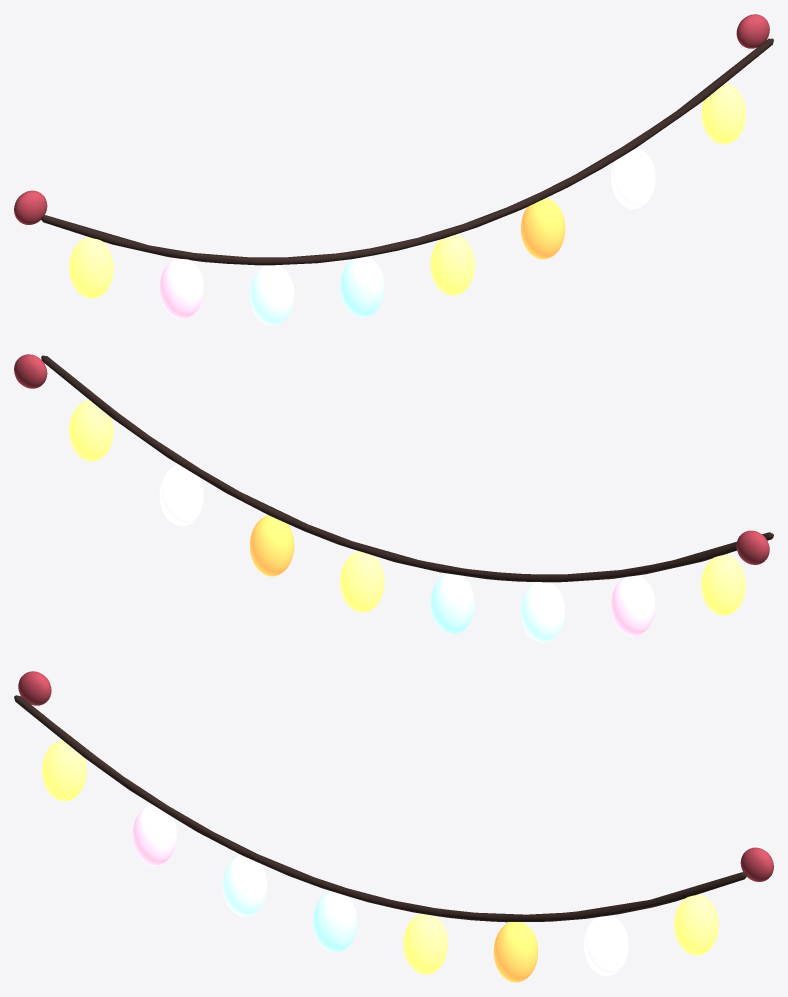
File: deco_guirnalda.glb
3 views of the same model, one above another, from view 1: azimuth 30°, elevation 25°; view 2: azimuth 150°, elevation 25°; view 3: azimuth 330°, elevation 25° (orthographic).
Parts seen in each view (by area): view 1: cable guirnalda.001, bombillo 0.001, bombillo 1.001, bombillo 2.001, bombillo 3.001, bombillo 4.001, bombillo 5.001, bombillo 6.001, bombillo 7.001, chinche -1.001, chinche 1.001; view 2: cable guirnalda.001, bombillo 0.001, bombillo 3.001, bombillo 1.001, bombillo 2.001, bombillo 4.001, bombillo 5.001, bombillo 6.001, bombillo 7.001, chinche -1.001, chinche 1.001; view 3: cable guirnalda.001, bombillo 7.001, bombillo 4.001, bombillo 5.001, bombillo 6.001, bombillo 3.001, bombillo 2.001, bombillo 1.001, bombillo 0.001, chinche 1.001, chinche -1.001.
Boxes of the visible parts, bbox=[...] form: cable guirnalda.001: bbox=[41, 38, 773, 265]; bombillo 0.001: bbox=[69, 237, 113, 298]; bombillo 1.001: bbox=[159, 258, 203, 319]; bombillo 2.001: bbox=[250, 265, 294, 325]; bombillo 3.001: bbox=[340, 256, 384, 317]; bombillo 4.001: bbox=[430, 234, 474, 295]; bombillo 5.001: bbox=[521, 198, 565, 259]; bombillo 6.001: bbox=[611, 147, 655, 208]; bombillo 7.001: bbox=[701, 83, 745, 144]; chinche -1.001: bbox=[14, 190, 47, 224]; chinche 1.001: bbox=[736, 14, 769, 48]; cable guirnalda.001: bbox=[41, 355, 773, 582]; bombillo 0.001: bbox=[701, 554, 745, 615]; bombillo 3.001: bbox=[430, 573, 474, 634]; bombillo 1.001: bbox=[611, 575, 655, 636]; bombillo 2.001: bbox=[520, 582, 565, 642]; bombillo 4.001: bbox=[340, 551, 384, 612]; bombillo 5.001: bbox=[250, 515, 294, 576]; bombillo 6.001: bbox=[159, 465, 203, 526]; bombillo 7.001: bbox=[69, 400, 113, 461]; chinche -1.001: bbox=[736, 530, 769, 564]; chinche 1.001: bbox=[14, 354, 47, 388]; cable guirnalda.001: bbox=[14, 695, 746, 922]; bombillo 7.001: bbox=[674, 894, 718, 955]; bombillo 4.001: bbox=[403, 913, 447, 974]; bombillo 5.001: bbox=[493, 922, 537, 982]; bombillo 6.001: bbox=[584, 915, 628, 976]; bombillo 3.001: bbox=[313, 891, 357, 952]; bombillo 2.001: bbox=[222, 855, 267, 916]; bombillo 1.001: bbox=[132, 804, 176, 865]; bombillo 0.001: bbox=[42, 740, 86, 801]; chinche 1.001: bbox=[740, 847, 773, 881]; chinche -1.001: bbox=[18, 671, 51, 705].
Size of the model in its own units: 0.8345 by 0.2015 by 0.0629.
